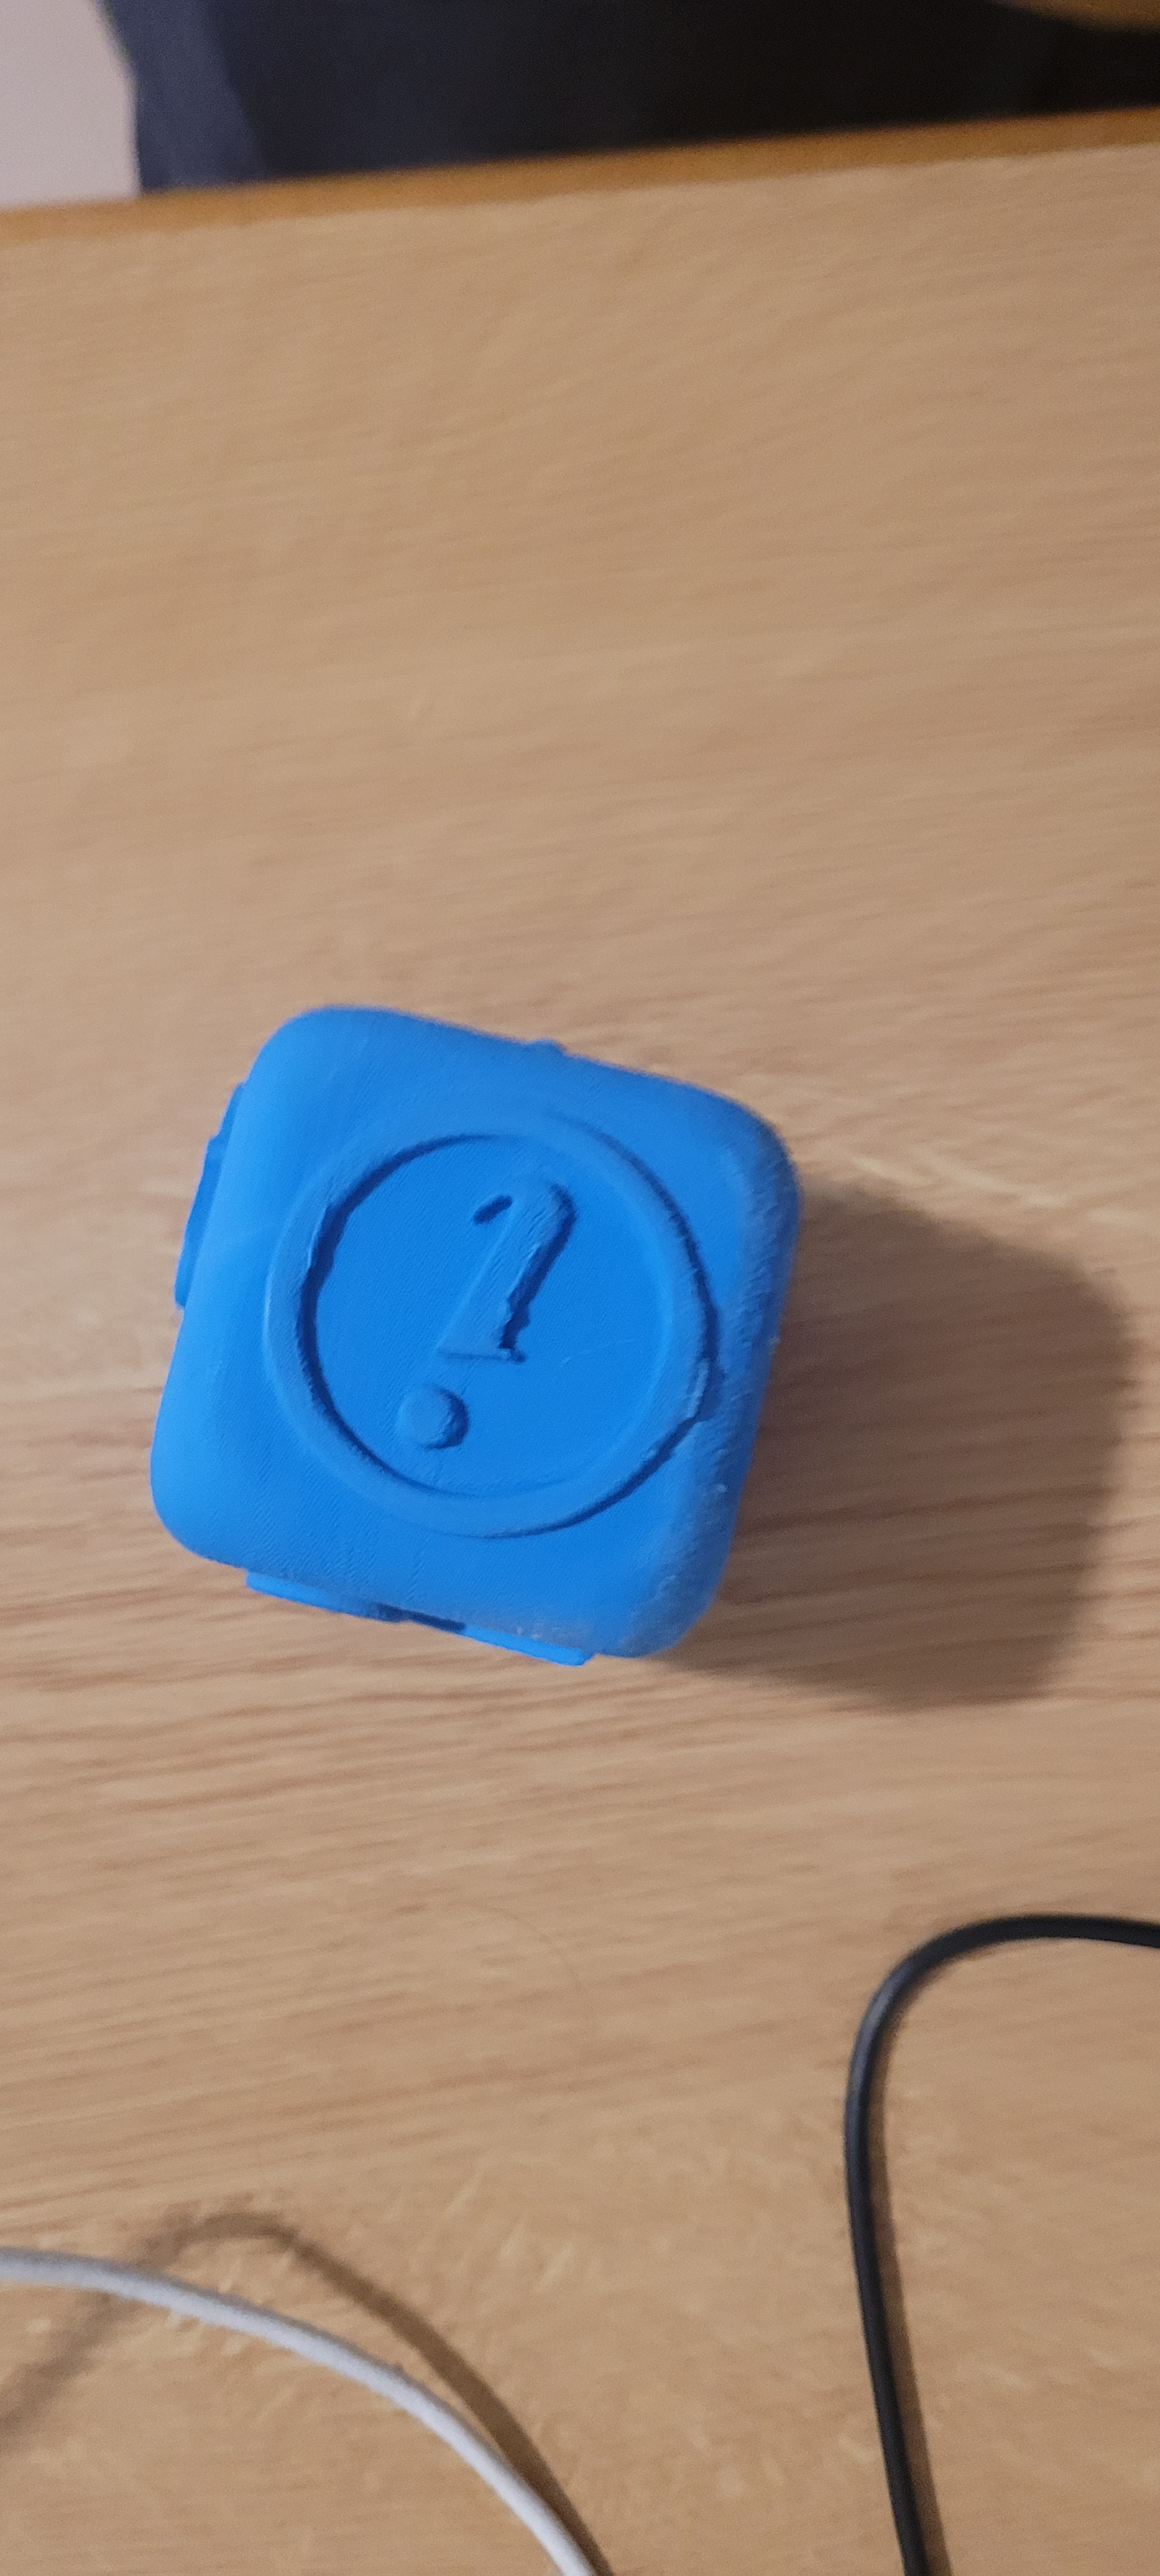Info: (261, 1073, 741, 1549)
